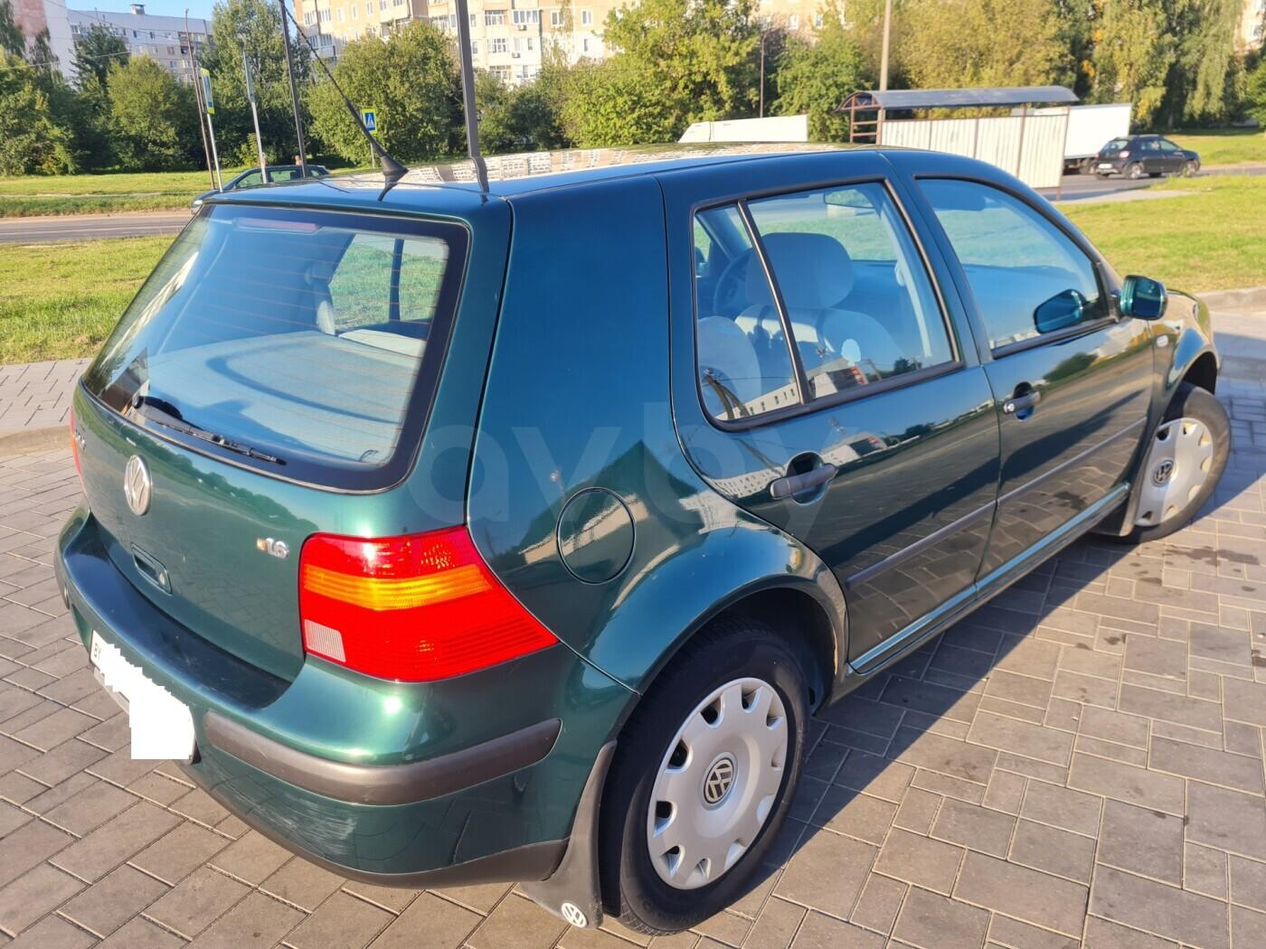Golf_1997-2006: (52, 138, 1236, 929)
